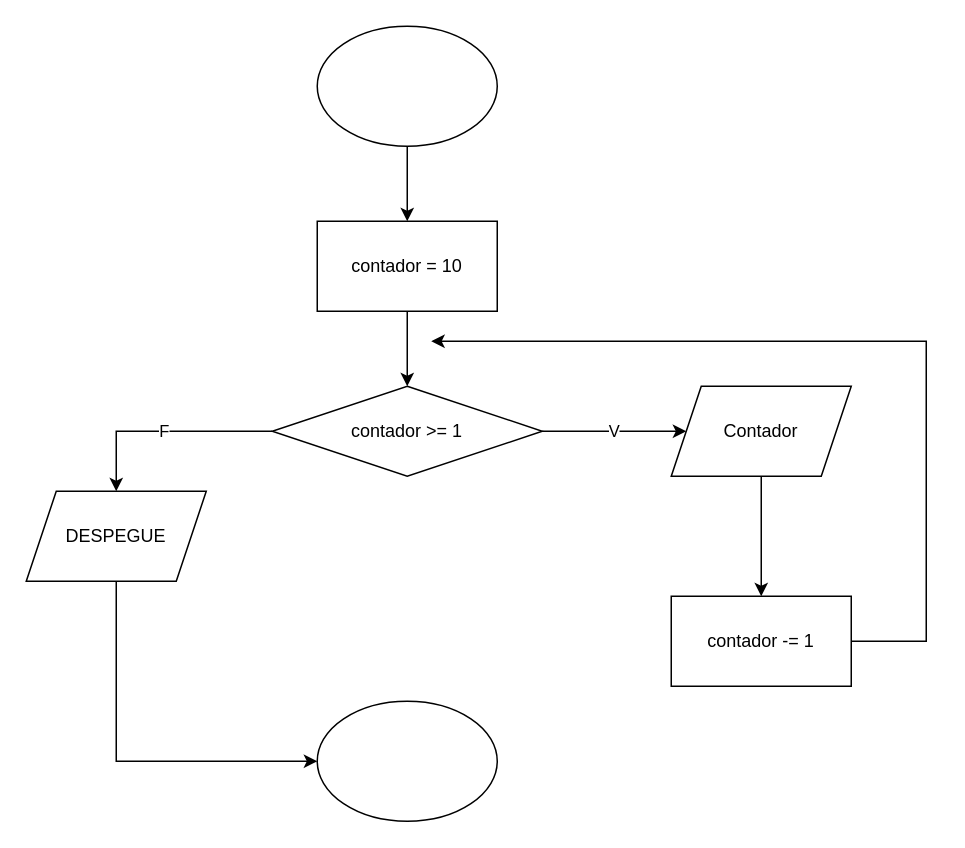
Some shapes in this 965 by 848 pixel diagram are drawn without their labels. Here are the shapes that lost their labels. From the top down, the centre of each, then its label:
the point at 406,85: INICIO
the point at 406,760: FIN
